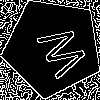W: (27, 22, 90, 85)
